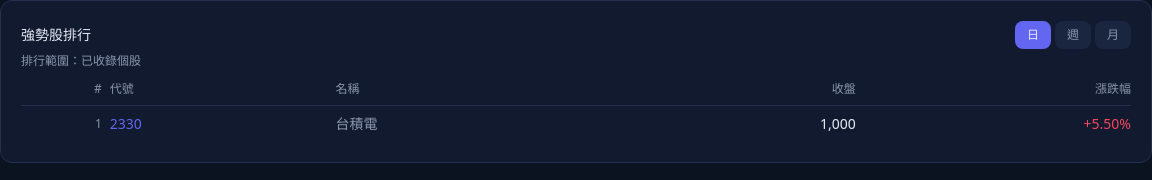
Test case: MoversRanking › 點擊週 tab → 切換內容並更新 aria-pressed
The image size is (1152, 180).
Click the button "週".
click(1073, 35)  # box [1055,21,1091,49]
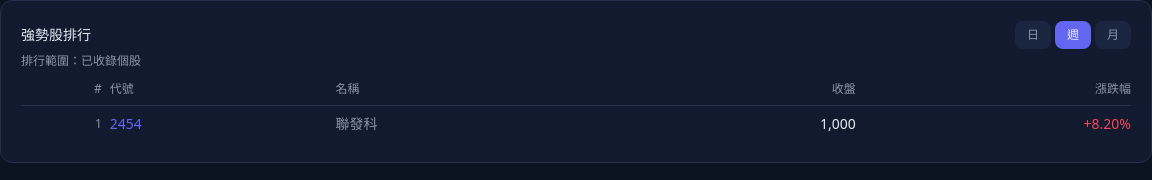
Check: the text "聯發科" is shown, box [335,106,617,142]
